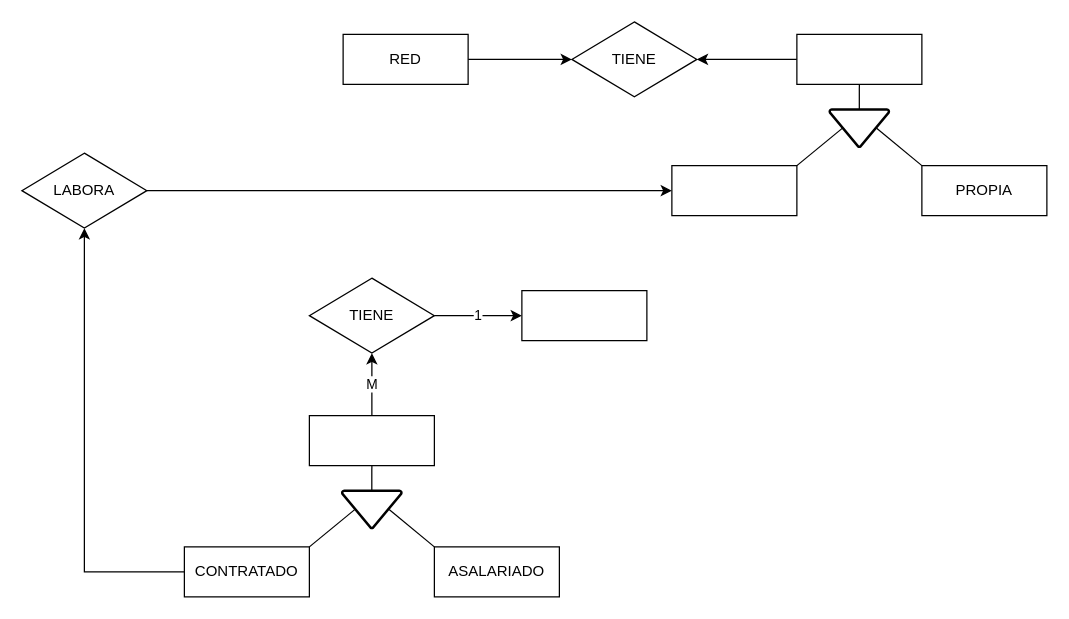
This 1069x619 diagram has some shape labels left out. The shapes that lost their labels are listed below. From the top down, each one's centre as x and y in pixels, then its label:
At [859,58]: "SUCURSAL".
At [734,190]: "INDEPENDIENTE".
At [584,315]: "JEFE".
At [371,440]: "VENDEDOR".
